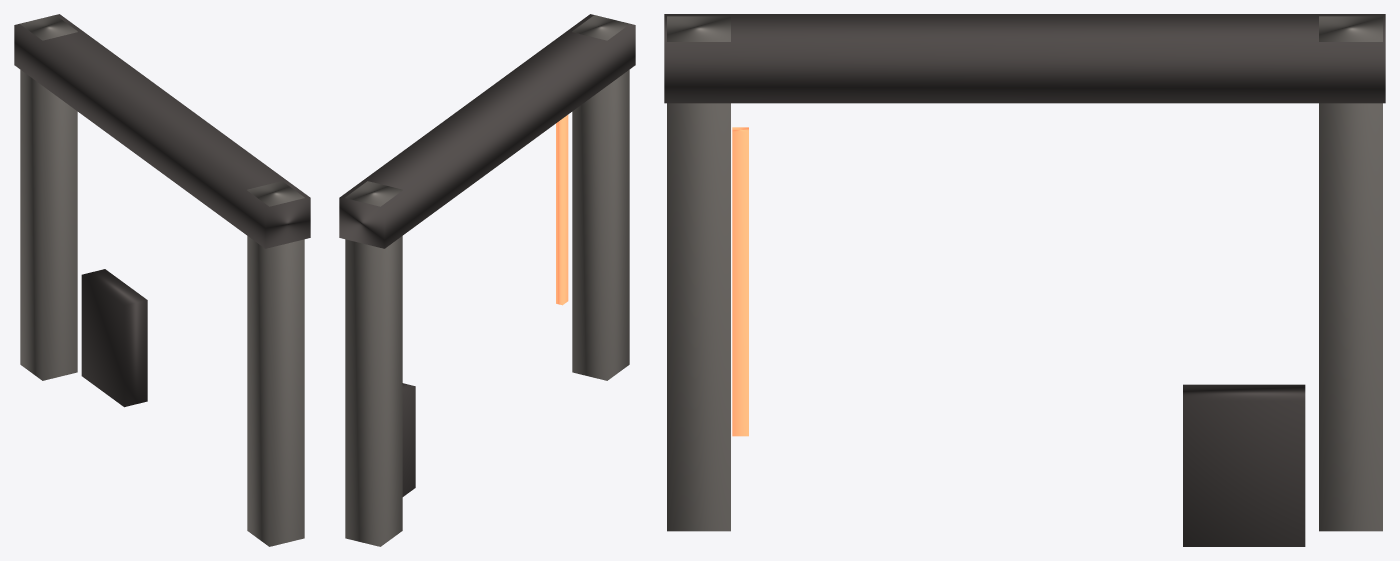
File: damaged-vessel-breach-frame-lod2.glb
The picture shows the model from 3 angles, left to right: view 1: azimuth 30°, elevation 25°; view 2: azimuth 150°, elevation 25°; view 3: azimuth 270°, elevation 25°; orthographic projection. The views are drawn at different scales.
Visible parts, largest first — view 1: damaged-vessel-breach-frame-crown, damaged-vessel-breach-frame-right, damaged-vessel-breach-frame-left, damaged-vessel-breach-frame-jagged; view 2: damaged-vessel-breach-frame-crown, damaged-vessel-breach-frame-left, damaged-vessel-breach-frame-right, damaged-vessel-breach-frame-warning, damaged-vessel-breach-frame-jagged; view 3: damaged-vessel-breach-frame-crown, damaged-vessel-breach-frame-left, damaged-vessel-breach-frame-right, damaged-vessel-breach-frame-jagged, damaged-vessel-breach-frame-warning.
Boxes of the visible parts, bbox=[...] form: damaged-vessel-breach-frame-crown: bbox=[14, 14, 310, 248]; damaged-vessel-breach-frame-right: bbox=[247, 181, 304, 546]; damaged-vessel-breach-frame-left: bbox=[20, 15, 77, 380]; damaged-vessel-breach-frame-jagged: bbox=[81, 269, 147, 407]; damaged-vessel-breach-frame-crown: bbox=[339, 14, 635, 248]; damaged-vessel-breach-frame-left: bbox=[345, 181, 402, 546]; damaged-vessel-breach-frame-right: bbox=[572, 15, 629, 380]; damaged-vessel-breach-frame-warning: bbox=[556, 115, 568, 305]; damaged-vessel-breach-frame-jagged: bbox=[402, 383, 415, 496]; damaged-vessel-breach-frame-crown: bbox=[664, 14, 1385, 103]; damaged-vessel-breach-frame-left: bbox=[1319, 16, 1382, 531]; damaged-vessel-breach-frame-right: bbox=[667, 16, 730, 531]; damaged-vessel-breach-frame-jagged: bbox=[1183, 384, 1305, 546]; damaged-vessel-breach-frame-warning: bbox=[732, 127, 748, 436].
Bounding box in the file's own units: 0.75 × 3.9 × 5.2.
